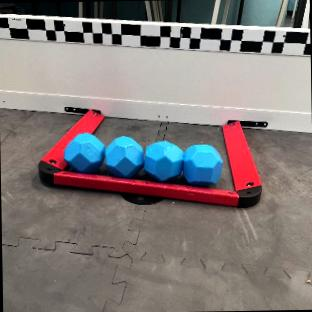V5_BLUE: (183, 143, 222, 184), (63, 134, 103, 172), (105, 136, 142, 176)
